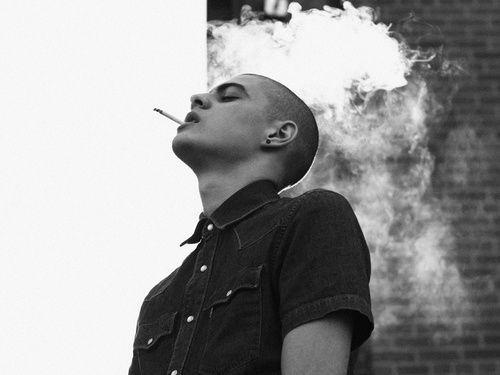cigarette: (152, 106, 183, 125)
